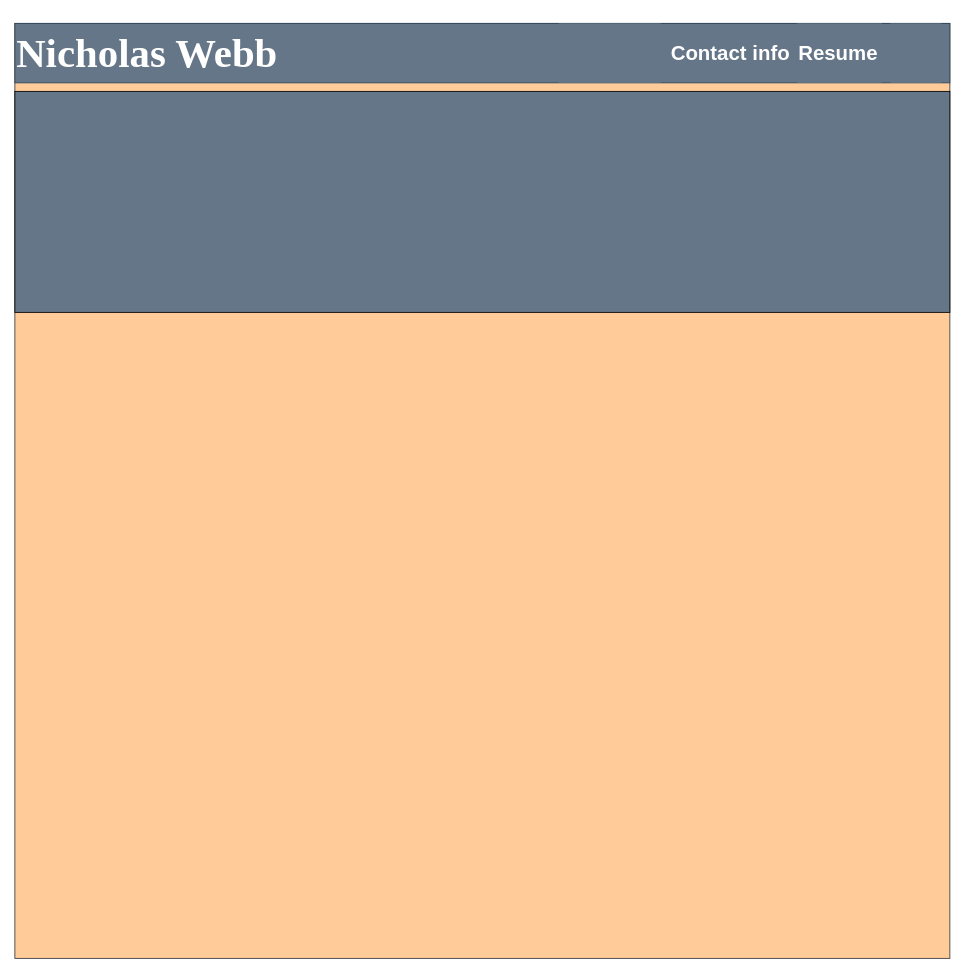
This 965x973 diagram has some shape labels left out. Here are the shapes that lost their labels. From the top down, the box of each, then its label:
(558, 23, 660, 82): About me
(890, 23, 941, 82): Work
